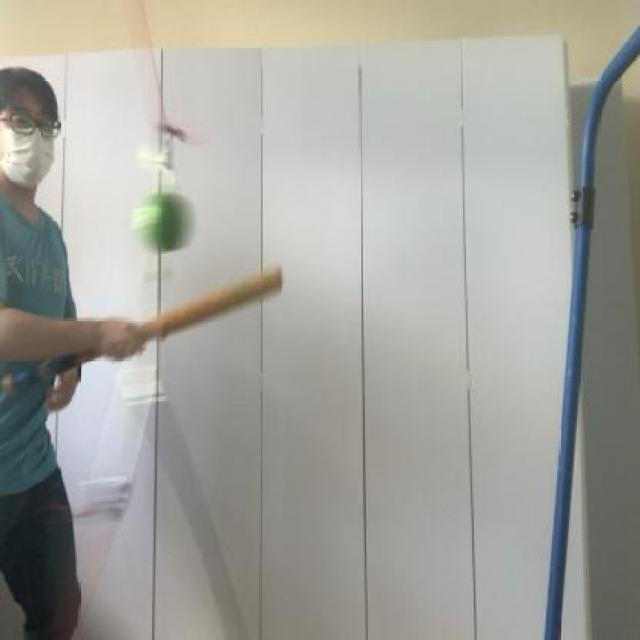baseball: (131, 178, 200, 255)
